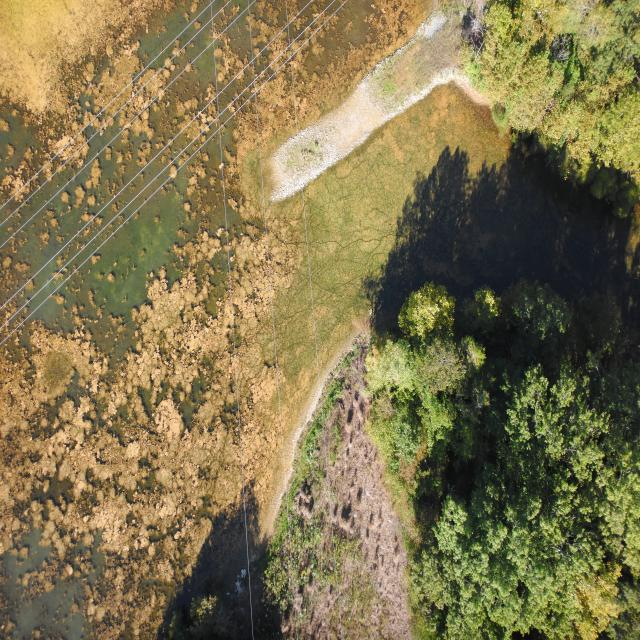Area of Interest: (379, 316, 634, 629), (482, 19, 640, 174)
